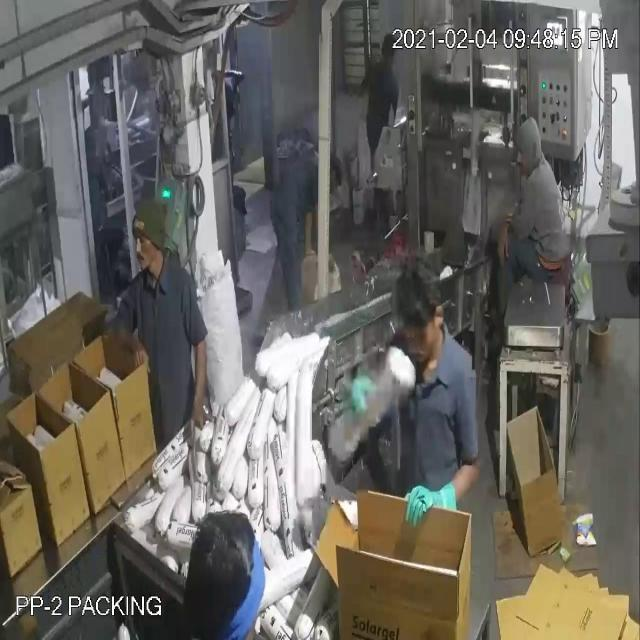No_Gloves: (33, 62, 510, 506)
